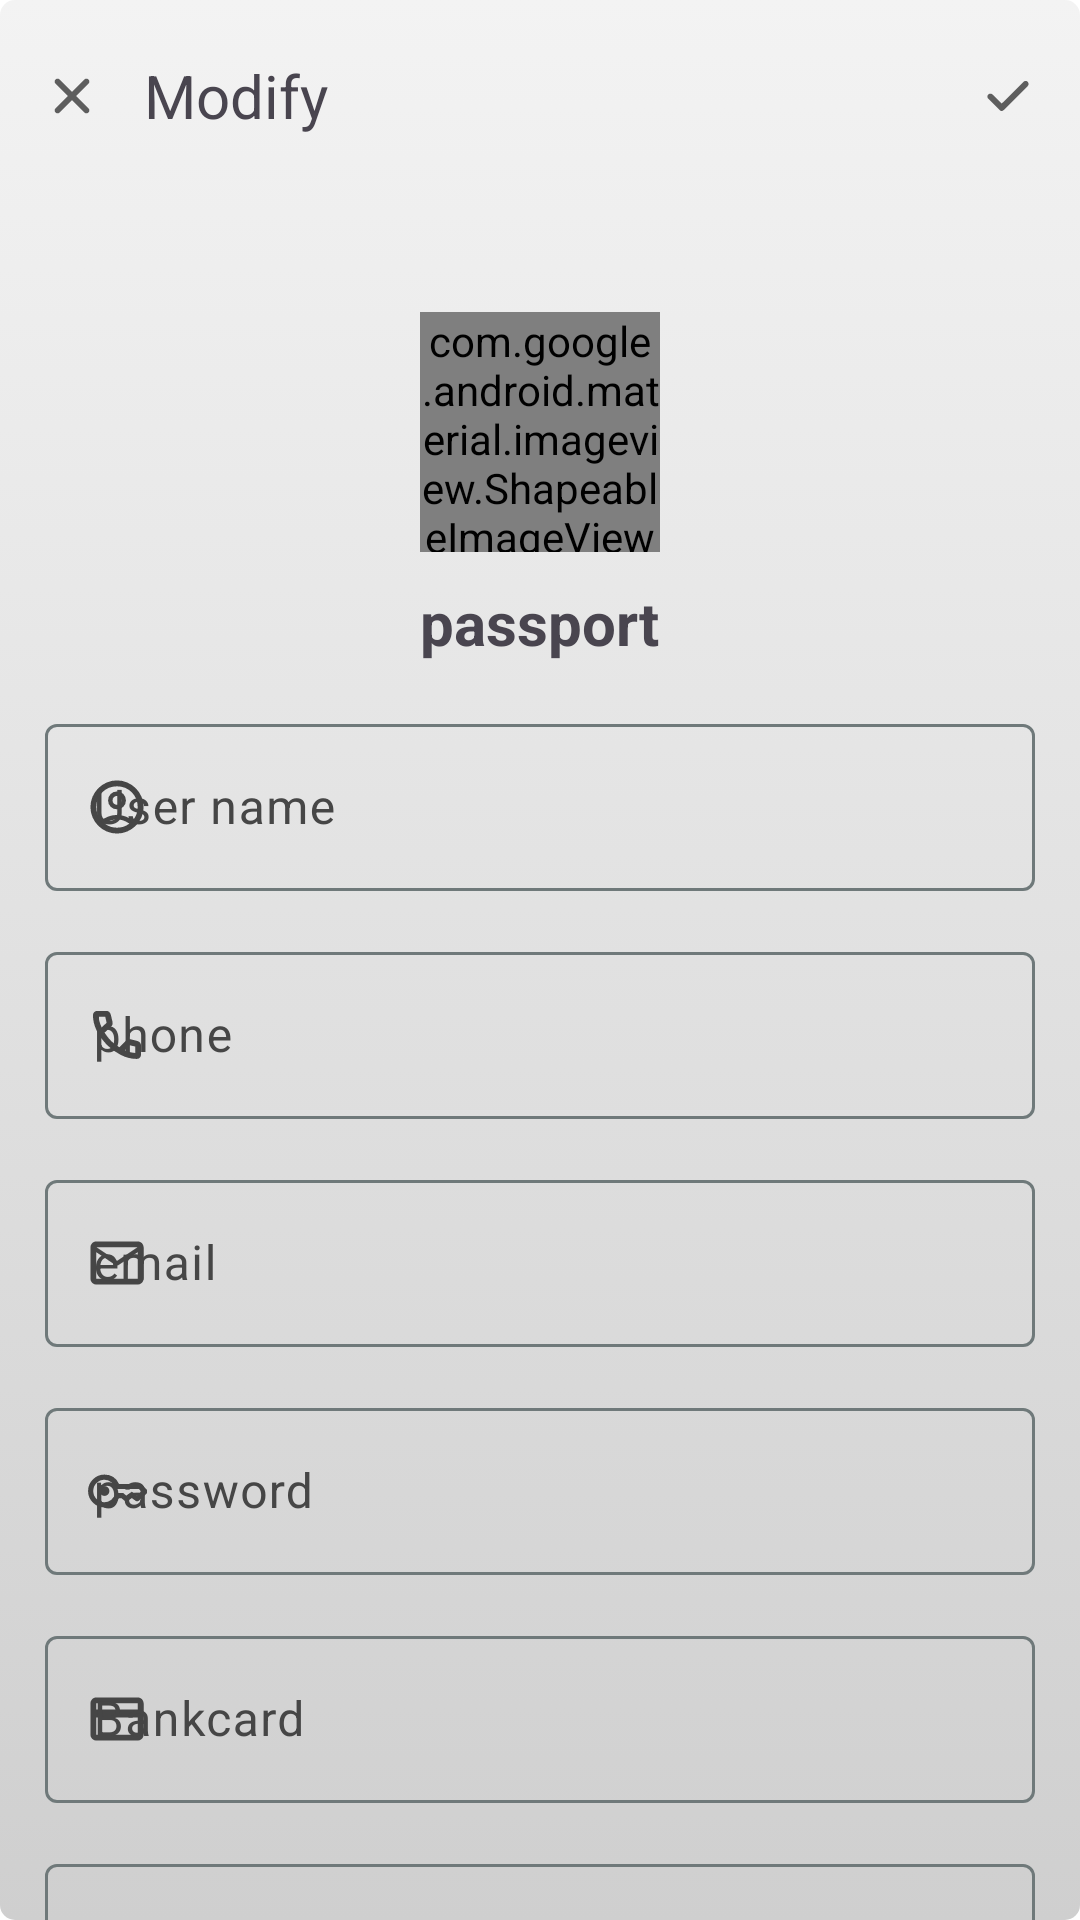

Locate icon controls on the screen. Image size 1080 x 1920, boxes as [x1,y1,x2,y2].
close: [54,78,90,114]
done: [987,81,1029,111]
